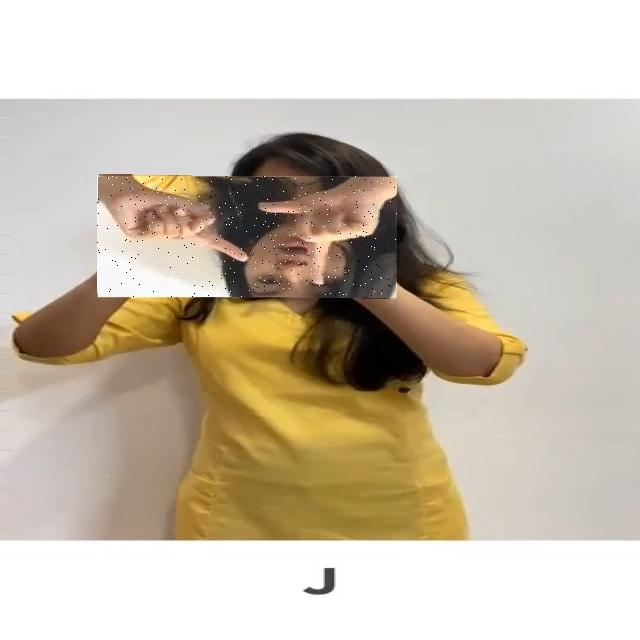J: (97, 176, 397, 298)
